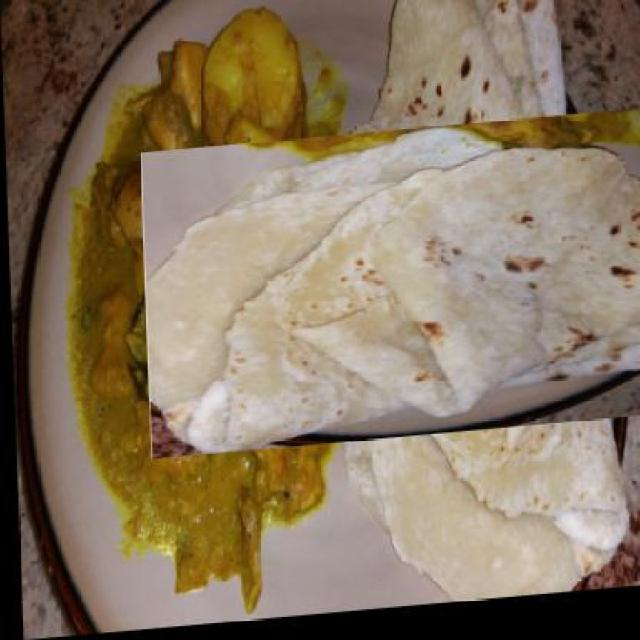chapati: (218, 35, 638, 543)
